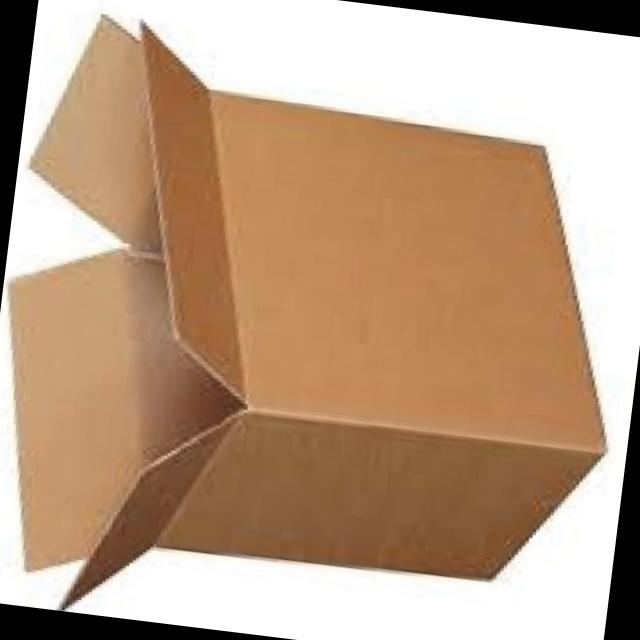cardboard paper: (6, 15, 599, 602)
